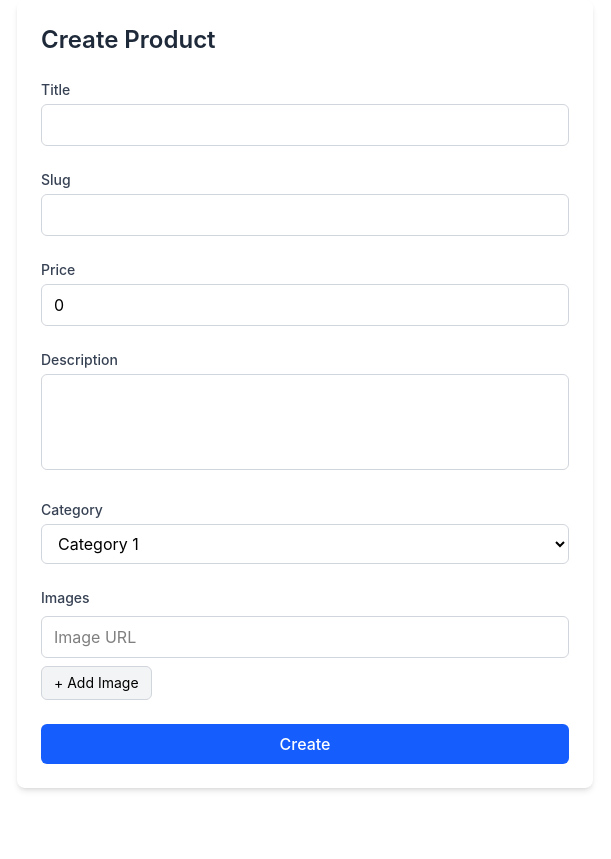
ProductForm Component › adds a new image field dynamically
The width and height of the screenshot is (611, 859).
Step 1. Click the button "+ Add Image" → (96, 683), box [41, 666, 152, 700]
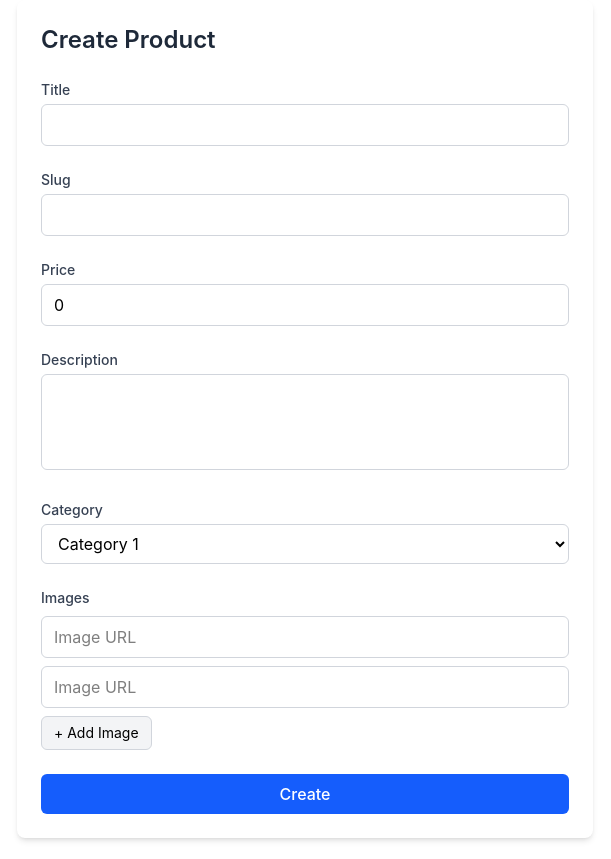
Expected: the number of fields with placeholder "Image URL" is 2, [41, 616, 569, 658]; [41, 666, 569, 708]
